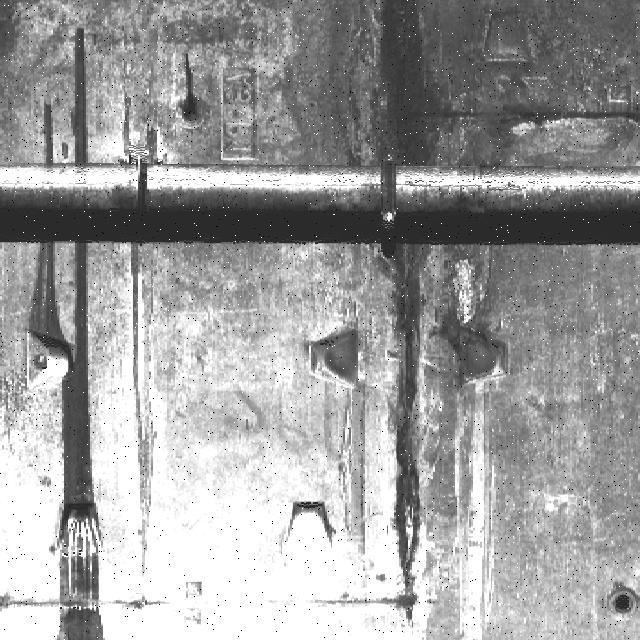leakage: (281, 1, 639, 181), (366, 236, 445, 622), (23, 245, 115, 517), (68, 25, 91, 169), (31, 102, 57, 173)
